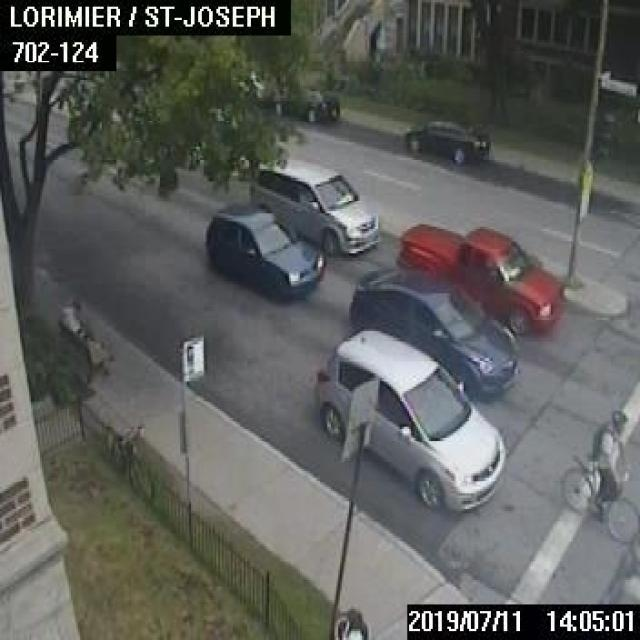cyclist: (558, 408, 638, 544)
vehicle: (315, 328, 505, 514), (348, 265, 518, 400), (397, 222, 564, 334), (248, 154, 376, 253), (204, 202, 324, 298), (401, 115, 489, 163), (272, 85, 338, 120)
